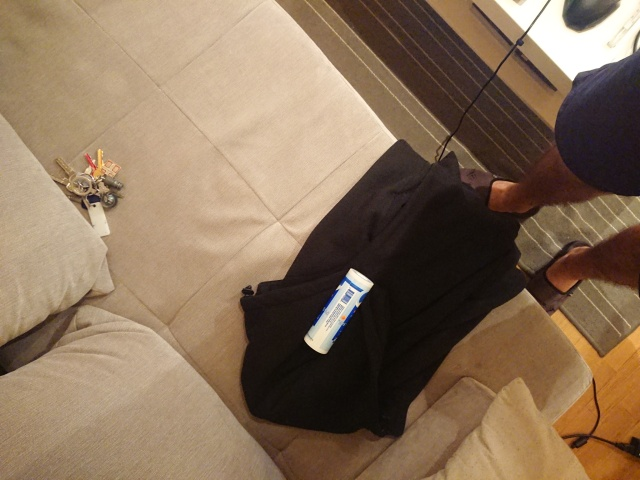Solana Pag Fine Sea Salt 250g: (299, 265, 376, 358)
